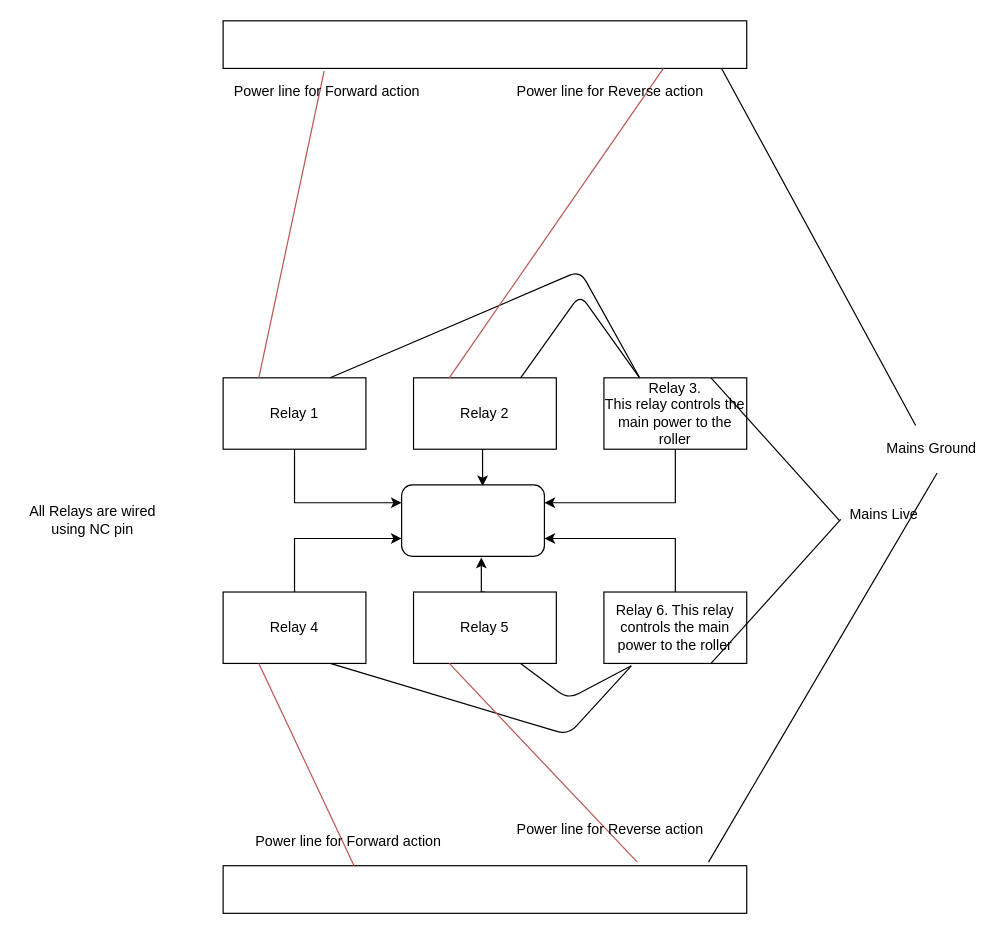
Image size: 1004x934. Some labels were removed from this diagram. The centre of each missing label's shape, as x and y in pixels:
"Bottom Roller" goes at point 484,889.
"Pi" goes at point 472,520.
"Top Roller" goes at point 484,44.
